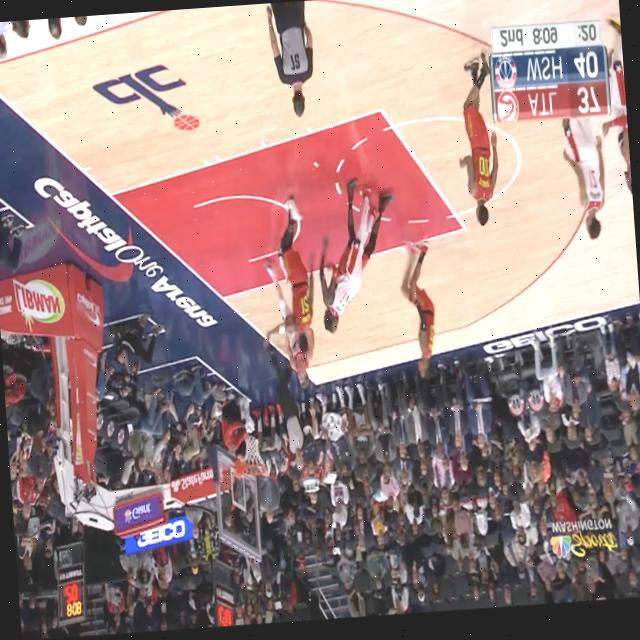foul: (305, 166, 405, 341)
no foul: (257, 182, 320, 398)
